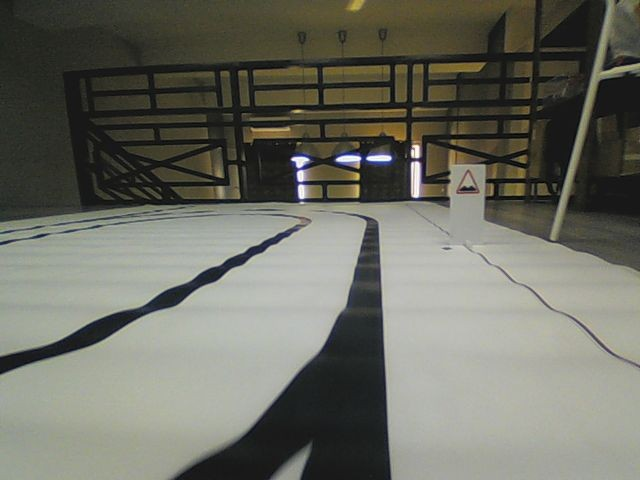Nerov: (455, 166, 480, 196)
